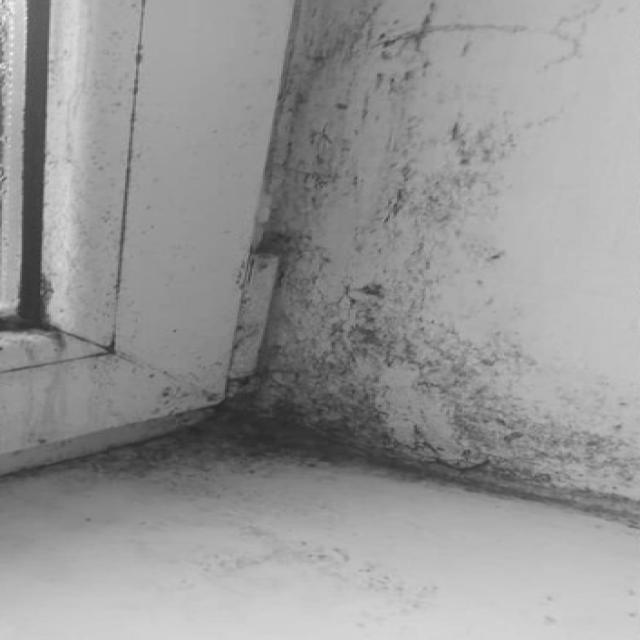stain marks: (238, 0, 606, 362), (254, 363, 638, 530), (123, 528, 640, 640), (0, 379, 248, 529)
